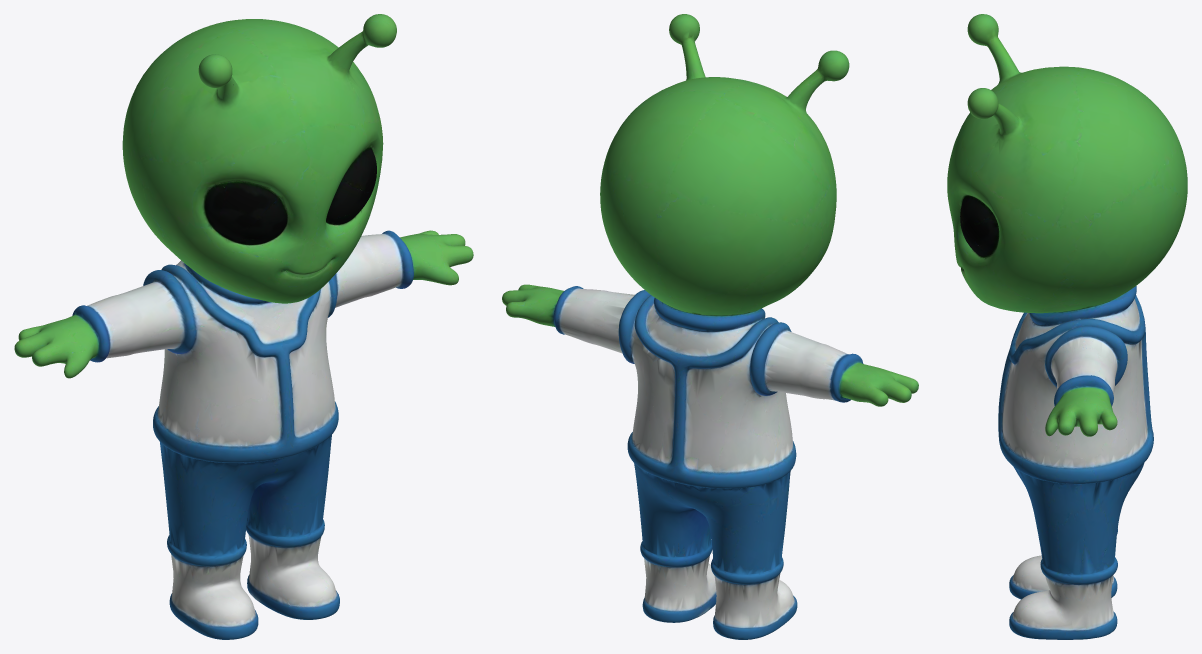
Rendered from a3D-marciano.glb.
3 renders of one model, left to right at view 1: azimuth 30°, elevation 25°; view 2: azimuth 150°, elevation 25°; view 3: azimuth 270°, elevation 25°, orthographic. The views are drawn at different scales.
Visible parts, largest first — view 1: geometry_0; view 2: geometry_0; view 3: geometry_0.
Boxes of the visible parts, x1=… form: geometry_0: x1=14, y1=14, x2=473, y2=639; geometry_0: x1=502, y1=14, x2=918, y2=639; geometry_0: x1=947, y1=14, x2=1187, y2=639.
Size of the model in its own units: 1.47 by 1.9 by 0.7437.
Materials: 1 (1 with a texture image).
